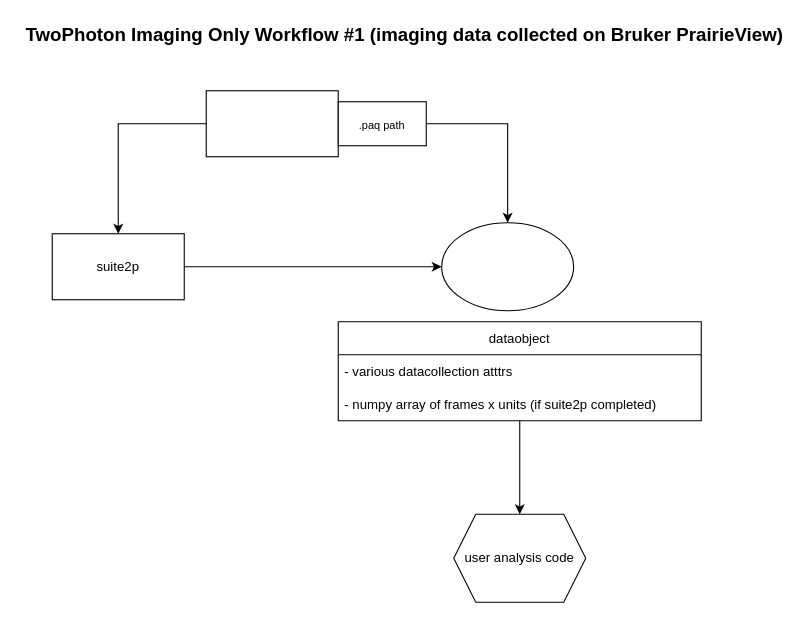
This 807x622 diagram has some shape labels left out. Here are the shapes that lost their labels. From the top down, the centre of each, then its label:
(x=271, y=123): Bruker t-series + .xml paths
(x=507, y=266): packerlabimaging
